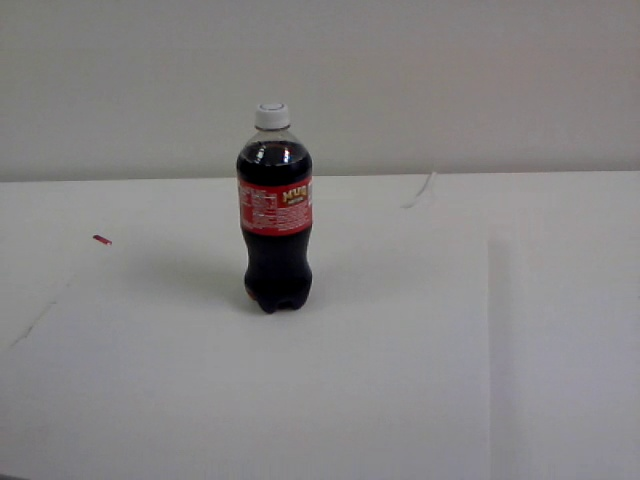botolplastik: (237, 104, 312, 312)
